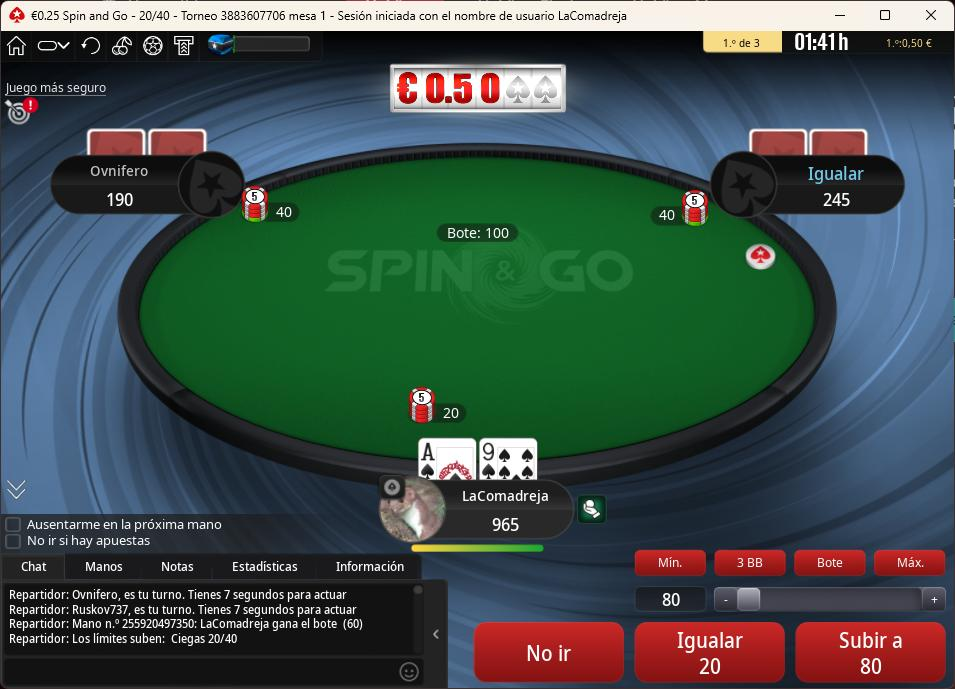ButtonCall: (627, 616, 785, 687)
ButtonCheck: (633, 617, 791, 685)
ButtonFold: (472, 619, 629, 686)
ButtonMaxRaise: (874, 550, 948, 579)
ButtonMinRaise: (632, 545, 713, 578)
ButtonPotRaise: (795, 547, 867, 580)
ButtonRaise: (794, 624, 948, 683)
Dealer: (740, 243, 777, 273)
HiddenCards: (82, 131, 208, 161), (750, 131, 877, 160)
Player: (717, 151, 911, 216), (48, 151, 244, 214)
PlayerBet: (242, 186, 307, 229), (645, 190, 709, 232)
PlayerChips: (483, 519, 531, 538), (96, 191, 140, 209), (818, 192, 861, 210)
Pot: (437, 223, 521, 244)
PrincipalBet: (407, 385, 474, 426)
PrincipalCards: (419, 437, 545, 484)
PrincipalCards1: (416, 435, 479, 483)
PrincipalCards2: (478, 436, 540, 482)
PrincipalPlayer: (370, 469, 569, 539)
SmallBigBlind: (129, 1, 183, 29)
